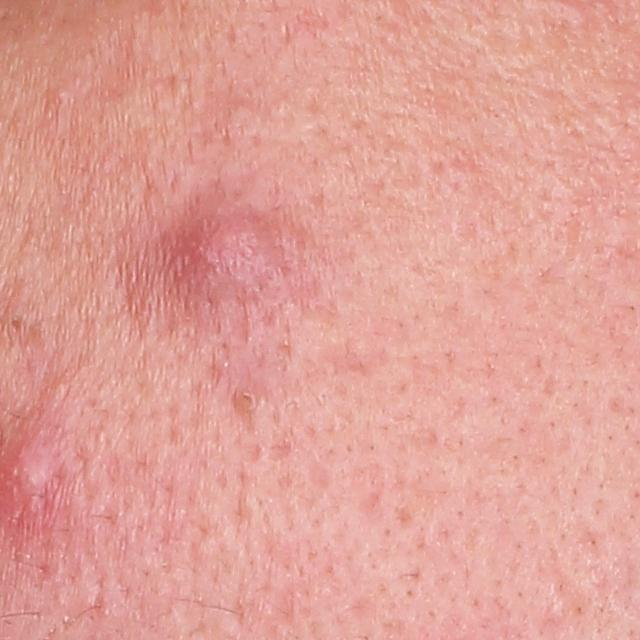comedo: (232, 388, 262, 416), (49, 84, 74, 102)
papule: (177, 211, 269, 308)
